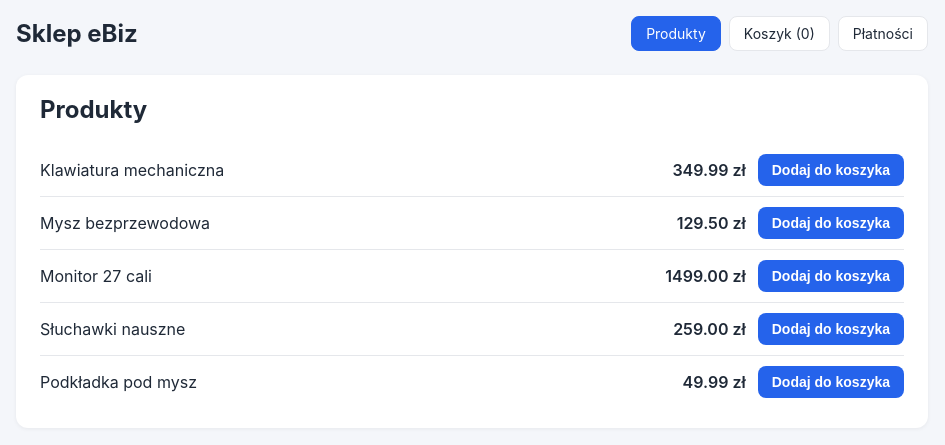
it: 09 - Licznik koszyka w pasku › licznik koszyka rośnie po dodaniu różnych produktów
This screenshot has width=945, height=445.
Expected: the link "Koszyk (0)" is shown, [729,16,830,51]
Click the button "Dodaj do koszyka" in the row of "Mysz bezprzewodowa" at (831, 223), box [758,207,904,239]
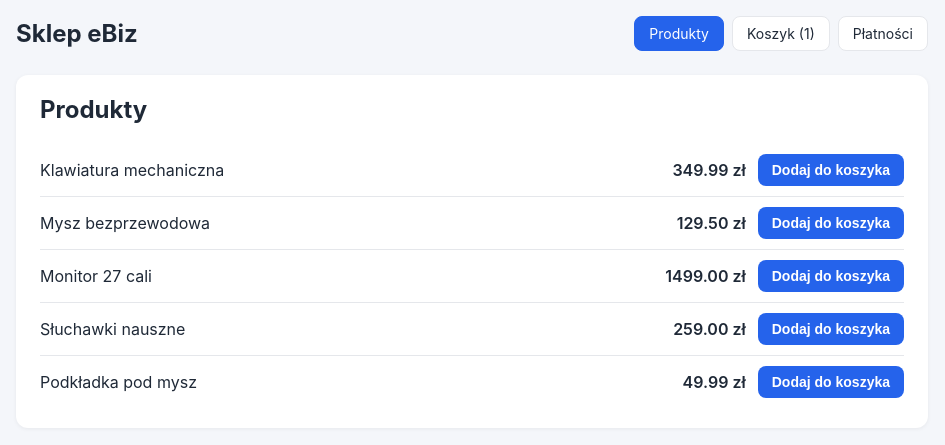
Now the link "Koszyk (1)" is shown, box [732,16,830,51]
Click the button "Dodaj do koszyka" in the row of "Monitor 27 cali" at (831, 276), box [758,260,904,292]
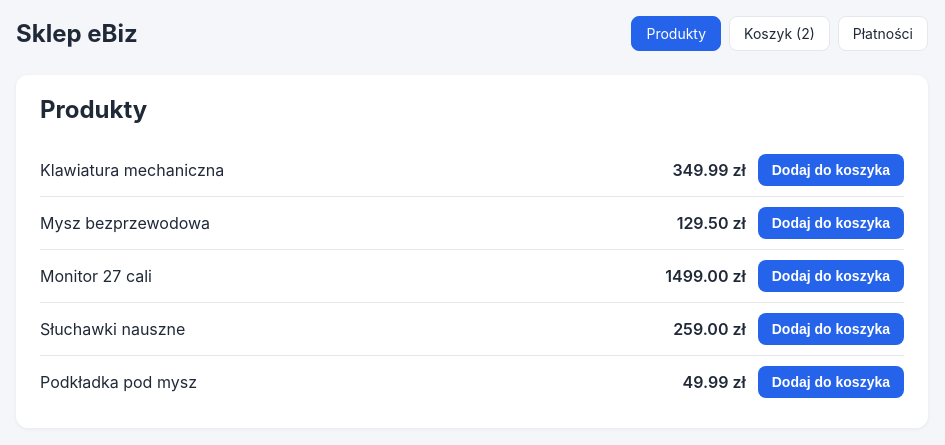
Now the link "Koszyk (2)" is shown, box [729,16,830,51]
Click the button "Dodaj do koszyka" in the row of "Słuchawki nauszne" at (831, 329), box [758,313,904,345]
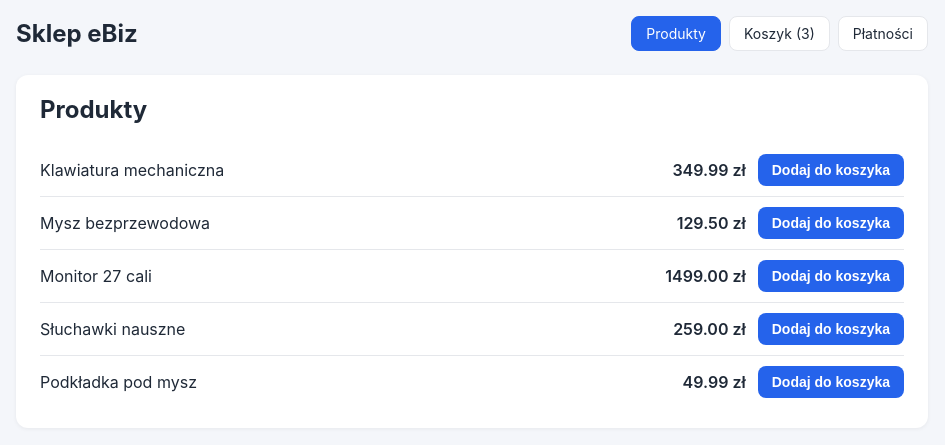
Now the link "Koszyk (3)" is shown, box [729,16,830,51]
